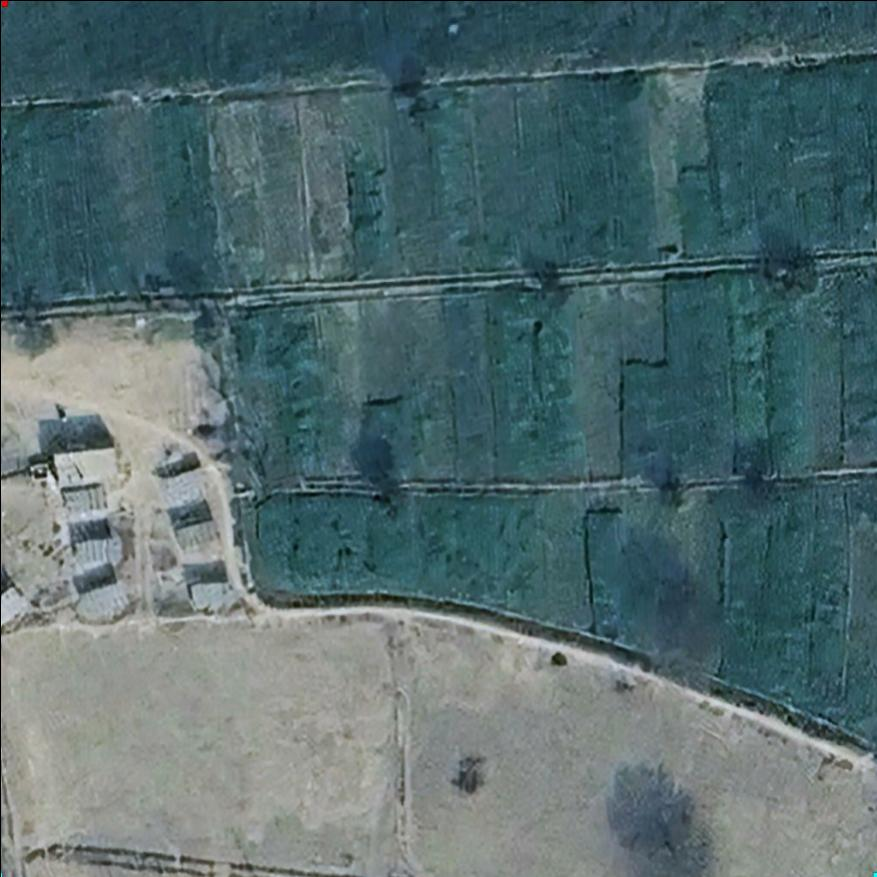Solarpanel: (172, 515, 225, 555), (156, 468, 211, 506), (58, 483, 109, 517), (72, 538, 116, 569)
